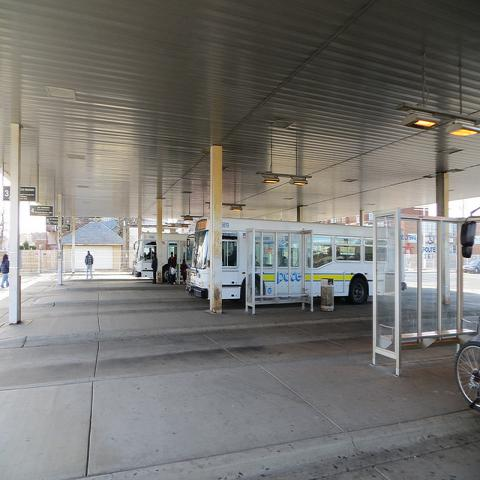bus: (186, 217, 373, 304), (132, 231, 194, 284)
